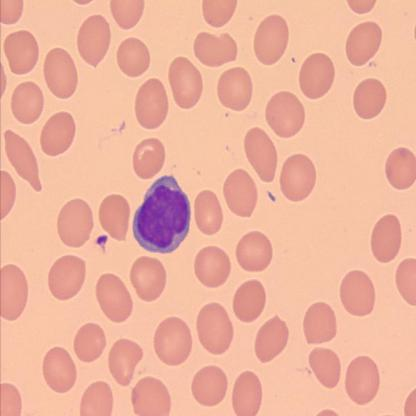Atypical lymphocyte: (128, 170, 196, 258)
